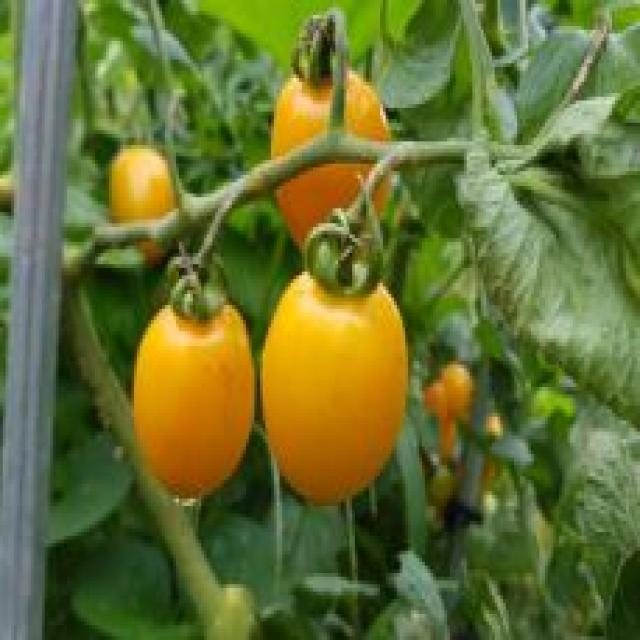level 2: (434, 413, 471, 480), (430, 463, 458, 512)
level 3: (258, 249, 423, 521), (248, 39, 412, 255), (126, 277, 262, 517), (96, 132, 200, 272), (407, 358, 462, 420), (442, 338, 478, 428)
